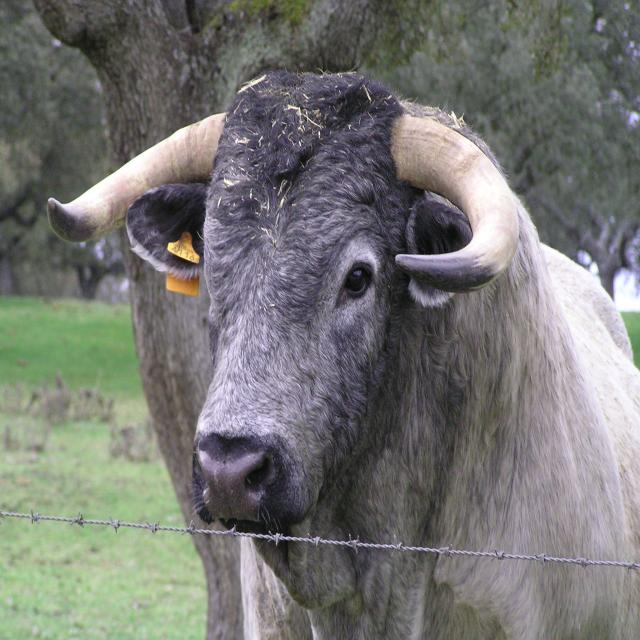cow: (48, 72, 640, 563), (241, 538, 640, 638)
